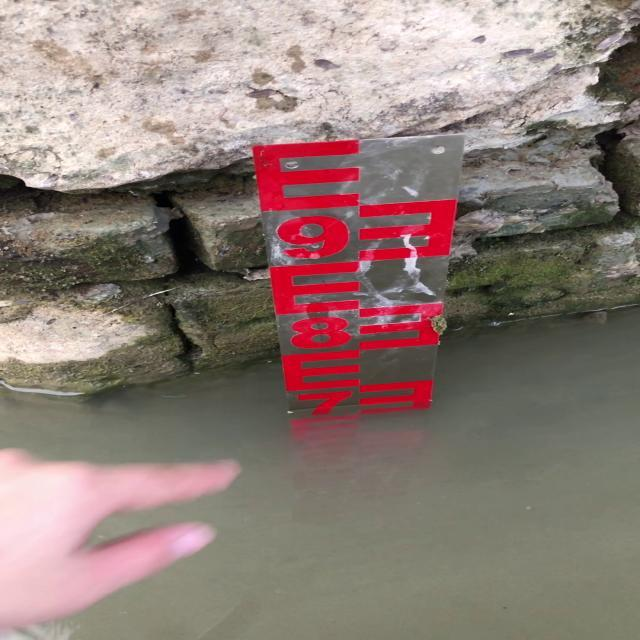ruler: (219, 124, 493, 431)
value: (259, 207, 365, 270), (275, 309, 362, 356)
